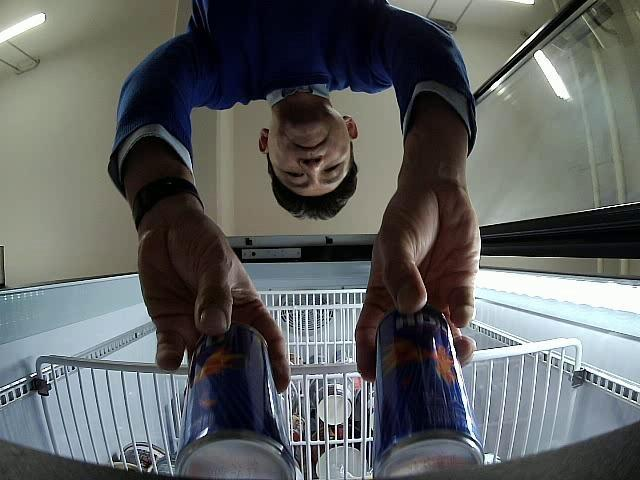16_hot6: (374, 302, 486, 478), (176, 323, 294, 479)
